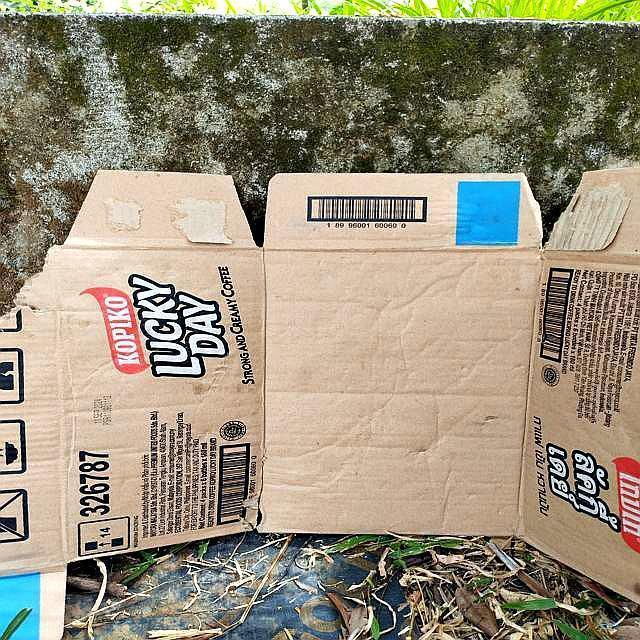Biodegradable: (1, 173, 640, 601)
